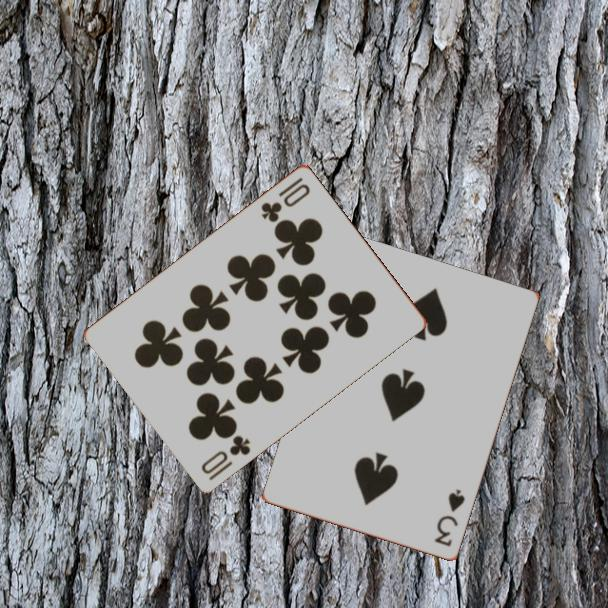c10: (257, 173, 313, 225), (198, 431, 254, 483)
s03: (431, 486, 468, 550)
